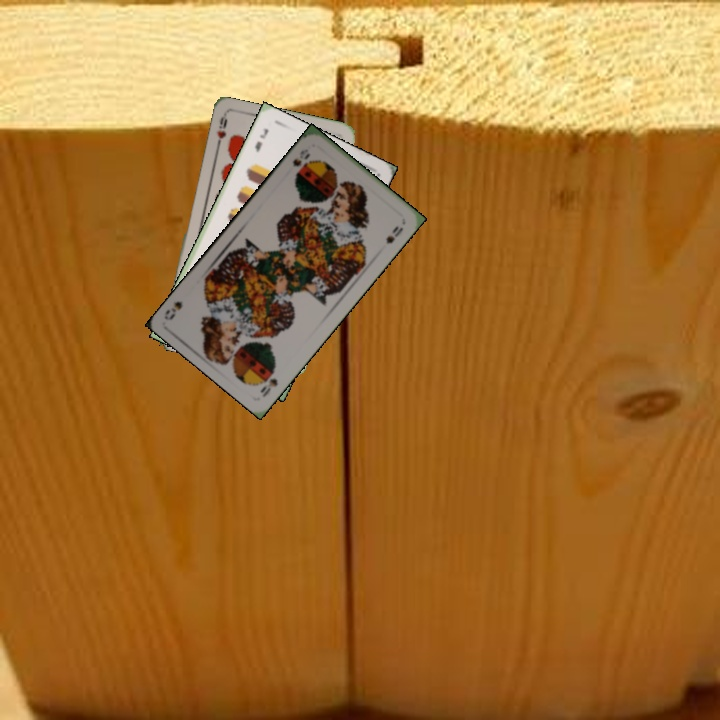E7: (250, 124, 271, 155)
H9: (212, 111, 230, 152)
SO: (256, 374, 281, 400), (288, 145, 313, 169)
